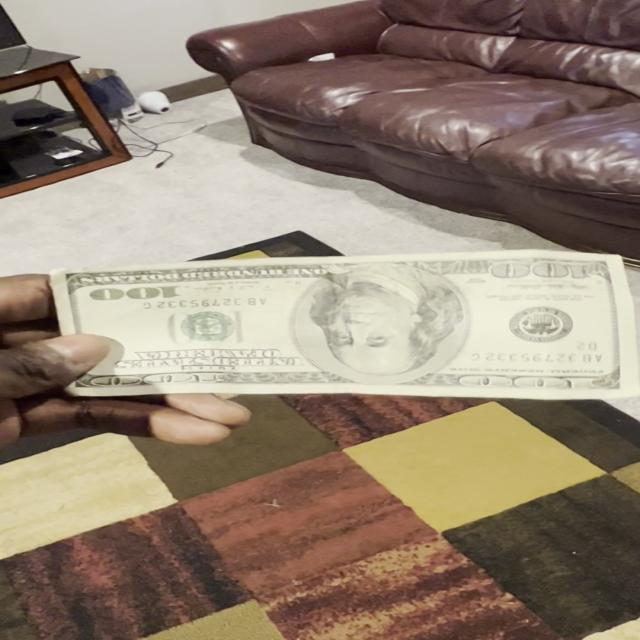hundred: (48, 248, 638, 400)
